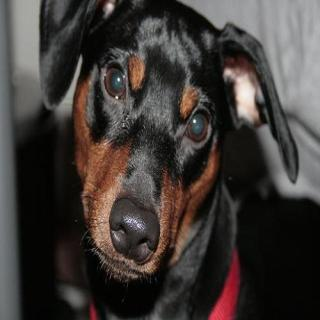dog: (44, 0, 314, 301)
nose: (107, 196, 165, 268)
